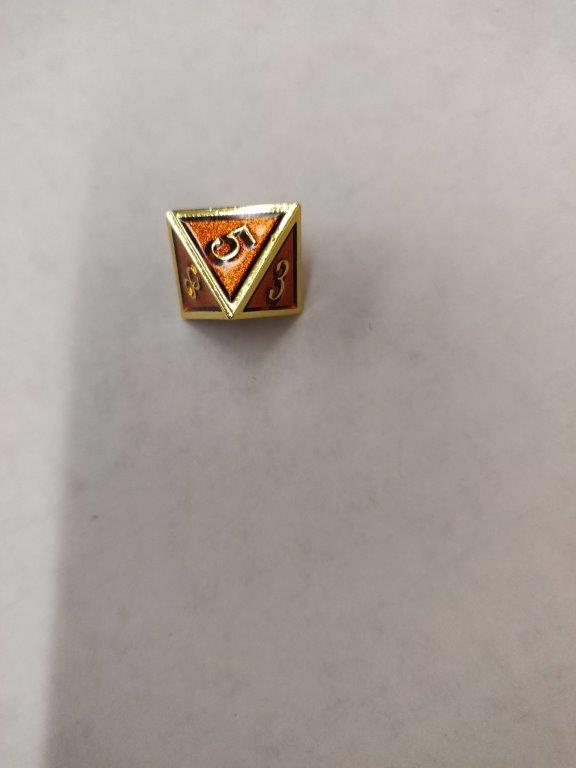d8-5: (161, 196, 305, 328)
